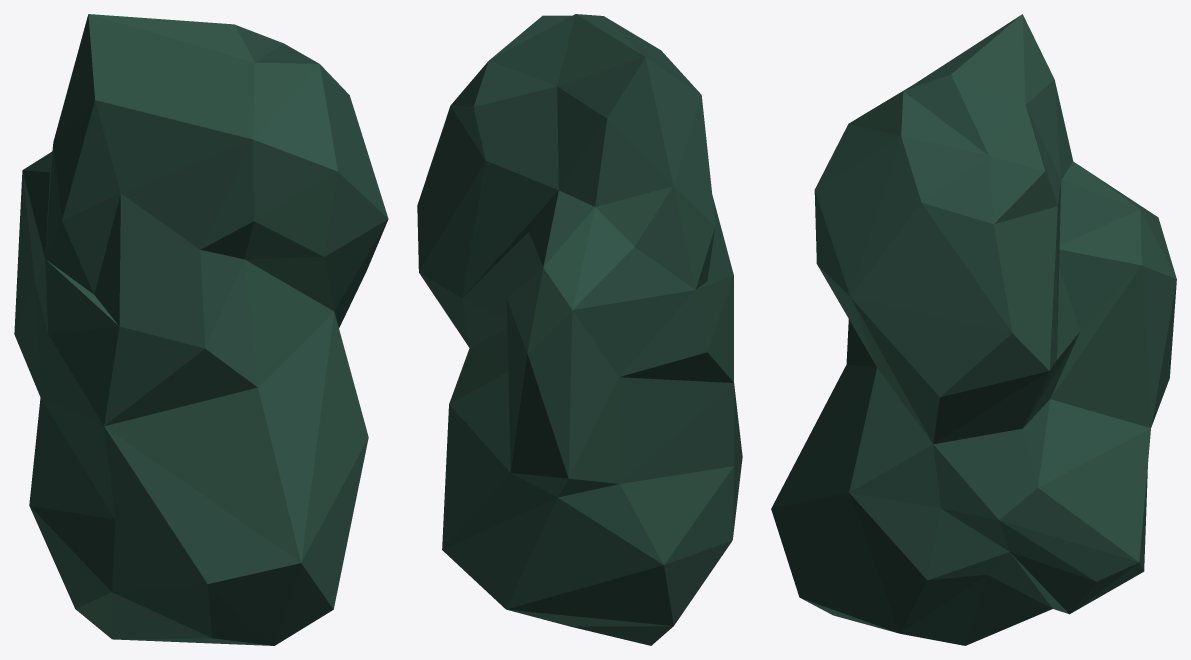
File: SM_large_rock_07.fbx
The picture shows the model from 3 angles, left to right: view 1: azimuth 30°, elevation 25°; view 2: azimuth 150°, elevation 25°; view 3: azimuth 270°, elevation 25°; orthographic projection. The views are drawn at different scales.
Parts seen in each view (by area): view 1: large_rock_07; view 2: large_rock_07; view 3: large_rock_07.
Boxes of the visible parts, x1,y1,x2,y2 form: large_rock_07: (14, 14, 388, 645); large_rock_07: (417, 14, 742, 645); large_rock_07: (771, 14, 1176, 645).
Size of the model in its own units: 25.47 by 51.57 by 31.92.
